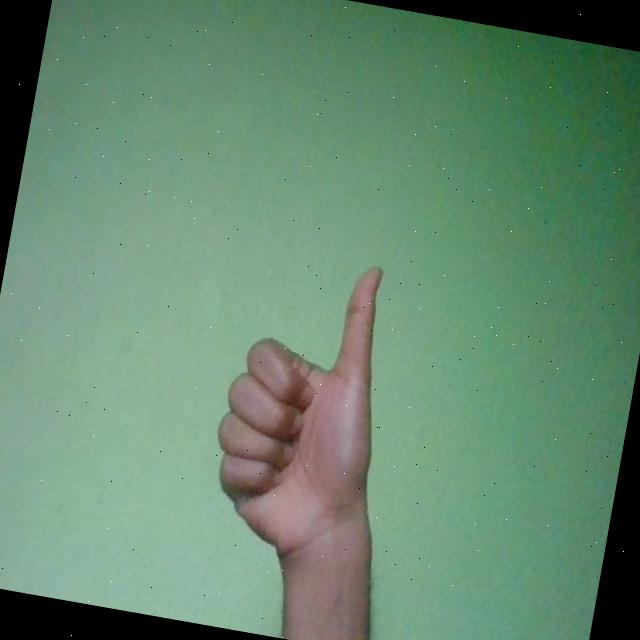Good Job: (195, 243, 404, 574)
